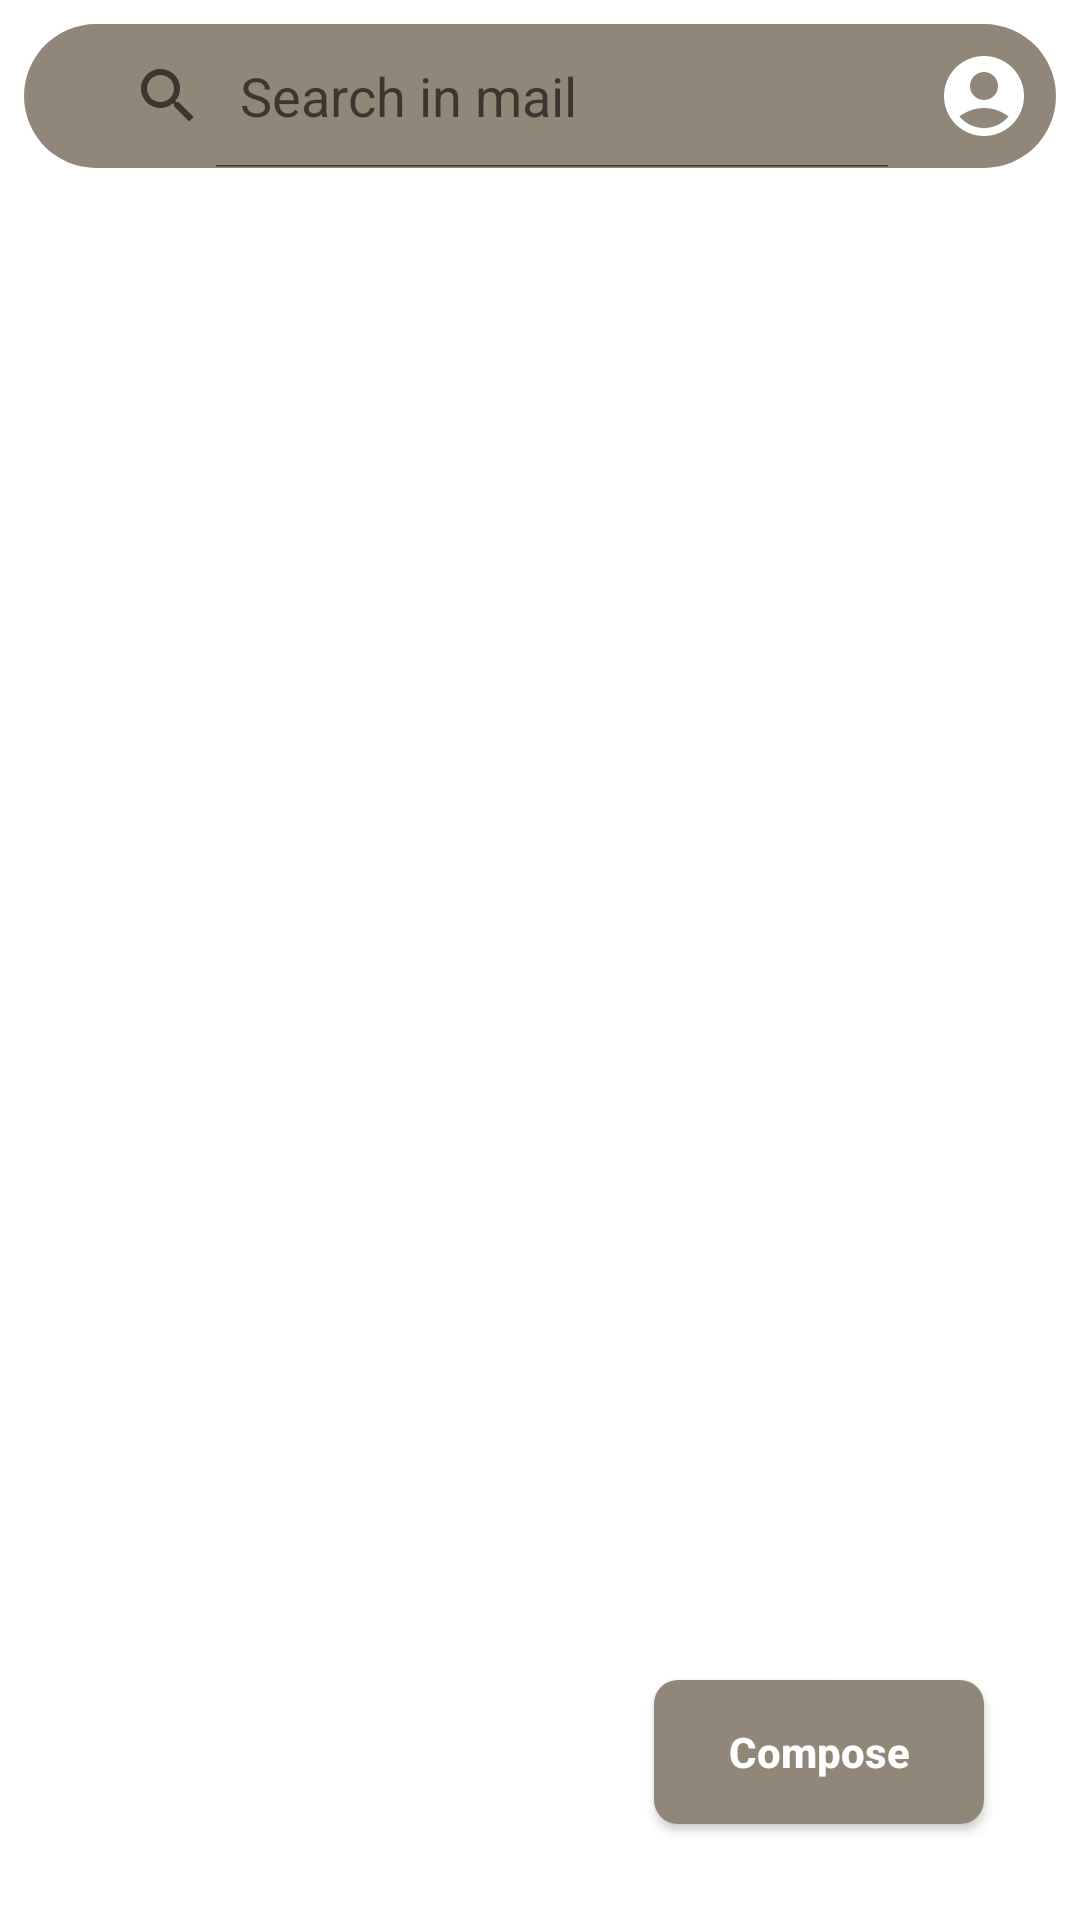

Named icons in this screenshot (1080px x 1920px) and their centers, point (x, y):
user: point (984, 96)
